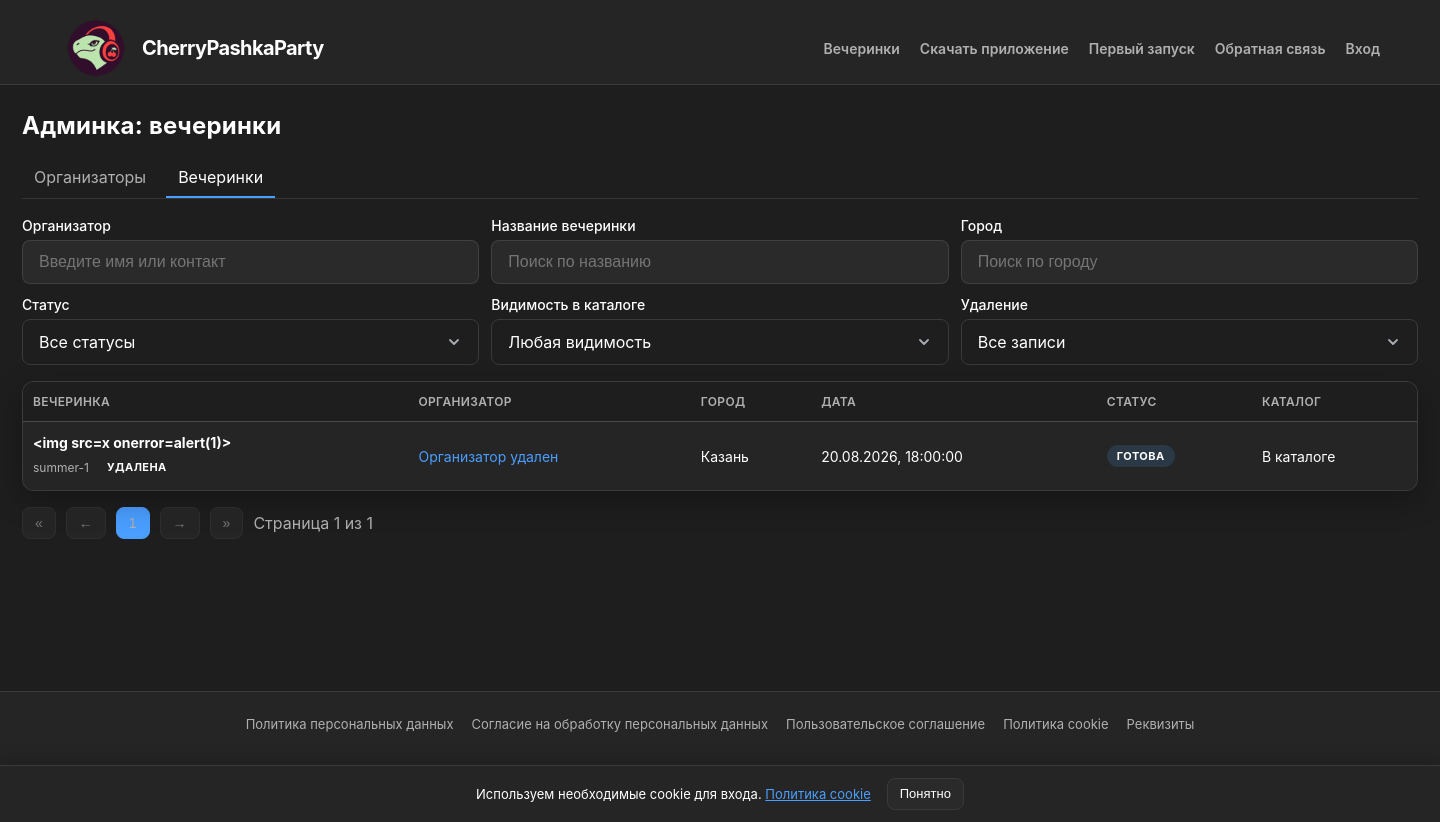
it: admin parties page behavior › renders deleted parties and organizers as plain text without lifecycle actions
Click the link "<img src=x onerror=alert(1)>" at [132, 442], box [33,434,231,451]
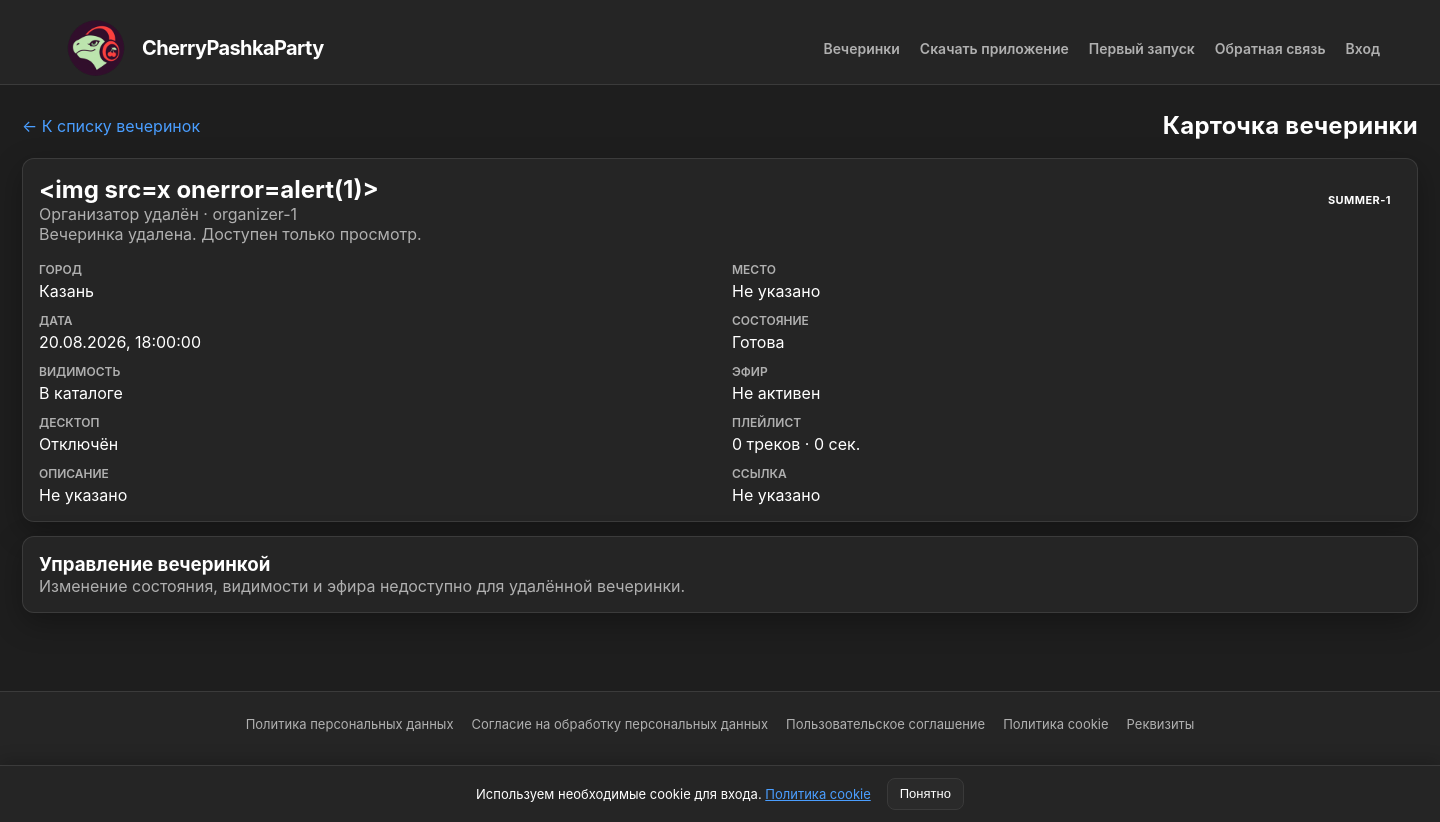
expect the heading "Карточка вечеринки" is shown: met, box [1163,111,1418,140]
expect the text "Вечеринка удалена. Доступен только просмотр." is shown: met, box [39,224,422,244]
